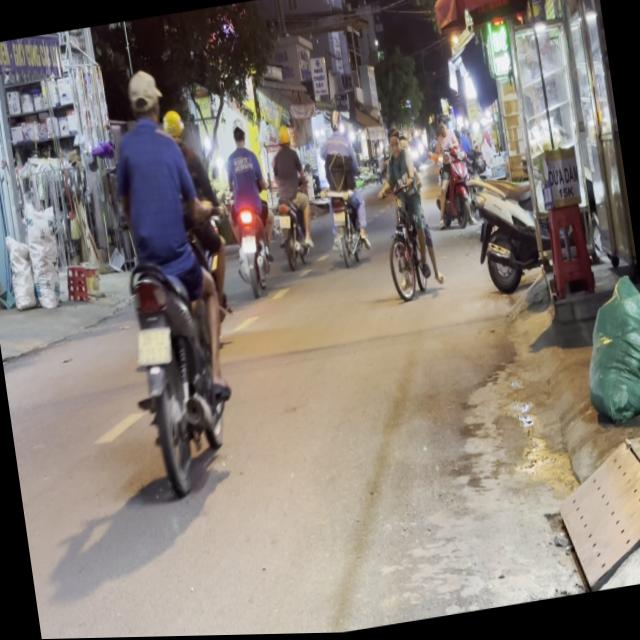helmet: (160, 107, 186, 144), (230, 119, 248, 149)
licenseplate: (89, 58, 254, 497), (214, 114, 282, 301)
motorcyclist: (122, 67, 165, 129)
nohelmet: (134, 325, 172, 366), (240, 237, 256, 255)
